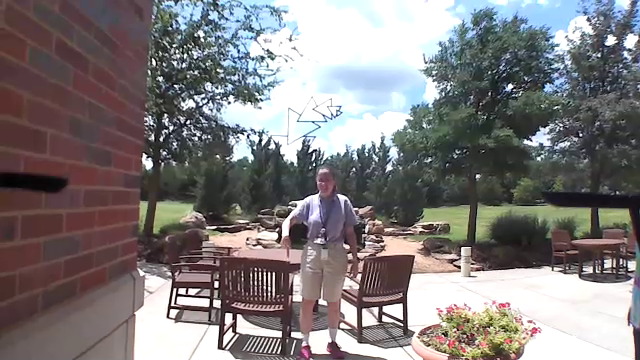down: (277, 233, 295, 264)
